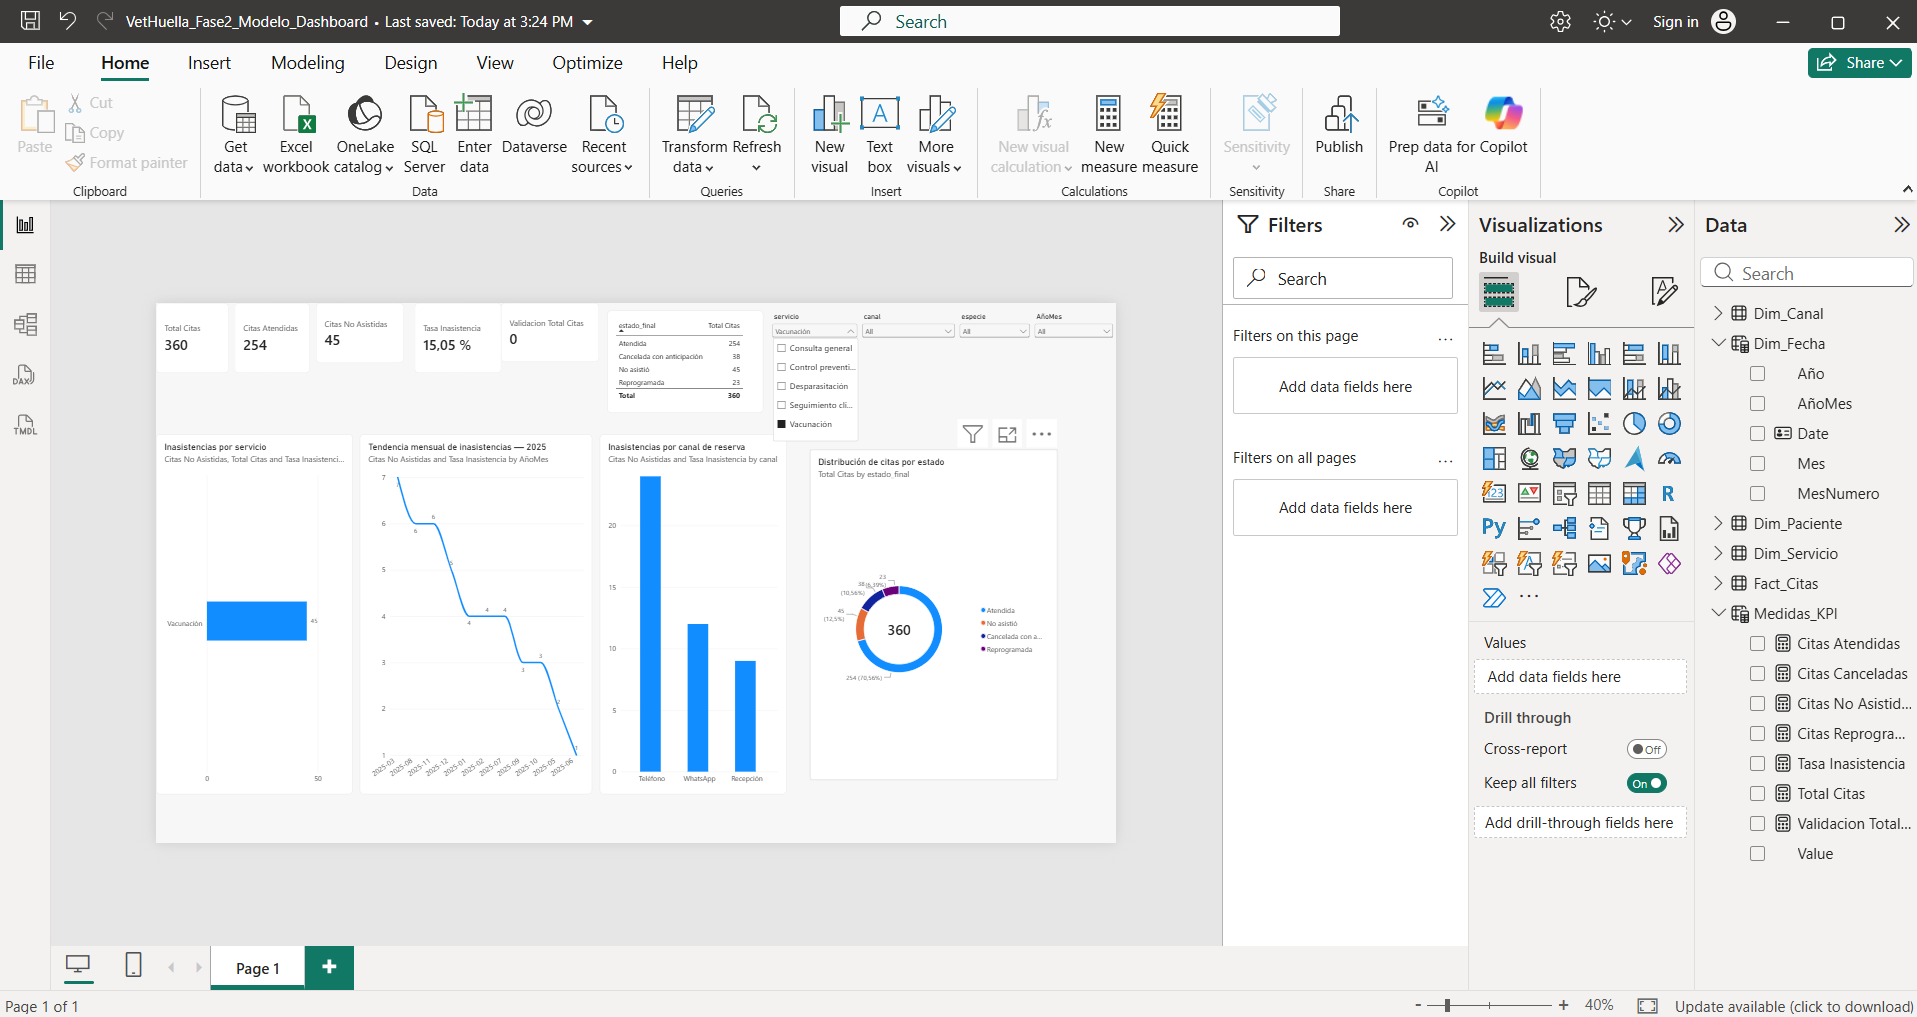

The dashboard page shown, as its layout file describes it:
{"tool":"powerbi","page":{"name":"Dashboard General","canvas":[1920,1080],"ordinal":0},"visuals":[{"type":"cardVisual","fields":{"Data":["Medidas_KPI.Total Citas"]},"box":[155,92.5,212.5,155],"z":0},{"type":"cardVisual","fields":{"Data":["Medidas_KPI.Citas Atendidas"]},"box":[422.5,87.5,205,152.5],"z":1000},{"type":"cardVisual","fields":{"Data":["Medidas_KPI.Citas No Asistidas"]},"box":[667.5,87.5,220,152.5],"z":2000},{"type":"cardVisual","fields":{"Data":["Medidas_KPI.Tasa Inasistencia"]},"box":[942.5,90,212.5,155],"z":3000},{"type":"cardVisual","fields":{"Data":["Medidas_KPI.Validacion Total Citas"]},"box":[1172.5,97.5,250,142.5],"z":4000},{"type":"tableEx","fields":{"Values":["Fact_Citas.estado_final","Medidas_KPI.Total Citas"]},"box":[1502.5,97.5,417.5,220],"z":5000},{"type":"clusteredBarChart","title":"Inasistencias por servicio","fields":{"Category":["Dim_Servicio.servicio"],"Y":["Medidas_KPI.Citas No Asistidas"]},"box":[0,687.5,517.5,392.5],"z":6000},{"type":"lineChart","title":"Tendencia mensual de inasistencias — 2025","fields":{"Category":["Dim_Fecha.AñoMes"],"Y":["Medidas_KPI.Citas No Asistidas"]},"box":[510,687,505,392.5],"z":7000},{"type":"clusteredColumnChart","title":"Inasistencias por canal de reserva","fields":{"Category":["Dim_Canal.canal"],"Y":["Medidas_KPI.Citas No Asistidas"]},"box":[1022.5,687.5,435,392.5],"z":8000},{"type":"donutChart","title":"Distribución de citas por estado","fields":{"Category":["Fact_Citas.estado_final"],"Y":["Medidas_KPI.Total Citas"]},"box":[1458,688,462,392],"z":9000},{"type":"slicer","fields":{"Values":["Dim_Servicio.servicio"]},"box":[0,287.5,335,322.5],"z":10000},{"type":"slicer","fields":{"Values":["Dim_Canal.canal"]},"box":[625,287.5,300,322.5],"z":11000},{"type":"slicer","fields":{"Values":["Dim_Paciente.especie"]},"box":[1110,287.5,312.5,322.5],"z":12000},{"type":"slicer","fields":{"Values":["Dim_Fecha.AñoMes"]},"box":[1602.5,317.5,317.5,322.5],"z":13000},{"type":"textbox","box":[0,0,1920,97.5],"z":14000}]}

Visuals, with their boxes on the page's 1920x1080 design canvas (x1, y1, x2, y2). These are canvas units, not pixel positions in the 1917x1017 screenshot, which may show the page scaled, cropped or inside an application window:
cardVisual - Medidas_KPI.Total Citas: crop(155, 92, 368, 248)
cardVisual - Medidas_KPI.Citas Atendidas: crop(422, 88, 628, 240)
cardVisual - Medidas_KPI.Citas No Asistidas: crop(668, 88, 888, 240)
cardVisual - Medidas_KPI.Tasa Inasistencia: crop(942, 90, 1155, 245)
cardVisual - Medidas_KPI.Validacion Total Citas: crop(1172, 98, 1422, 240)
tableEx - Fact_Citas.estado_final x Medidas_KPI.Total Citas: crop(1502, 98, 1920, 318)
"Inasistencias por servicio" clusteredBarChart: crop(0, 688, 518, 1080)
"Tendencia mensual de inasistencias — 2025" lineChart: crop(510, 687, 1015, 1080)
"Inasistencias por canal de reserva" clusteredColumnChart: crop(1022, 688, 1458, 1080)
"Distribución de citas por estado" donutChart: crop(1458, 688, 1920, 1080)
slicer - Dim_Servicio.servicio: crop(0, 288, 335, 610)
slicer - Dim_Canal.canal: crop(625, 288, 925, 610)
slicer - Dim_Paciente.especie: crop(1110, 288, 1422, 610)
slicer - Dim_Fecha.AñoMes: crop(1602, 318, 1920, 640)
textbox: crop(0, 0, 1920, 98)
